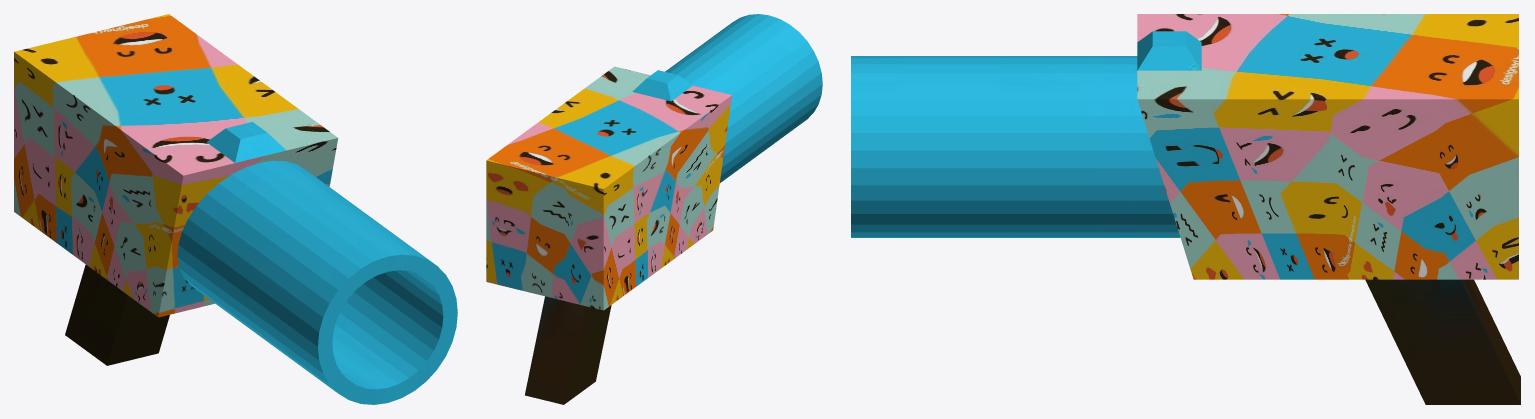
Rendered from PigGun.fbx.
3 views of the same model, side by side, from view 1: azimuth 30°, elevation 25°; view 2: azimuth 150°, elevation 25°; view 3: azimuth 270°, elevation 25° (orthographic). The views are drawn at different scales.
Visible parts, largest first — view 1: Cube.018; view 2: Cube.018; view 3: Cube.018.
Part boxes in pixels (box(x1,y1,x2,y2)): Cube.018: box(14, 14, 457, 404); Cube.018: box(486, 14, 822, 404); Cube.018: box(851, 14, 1520, 404).
Bounding box in the file's own units: 37.45 × 11.27 × 21.71.
